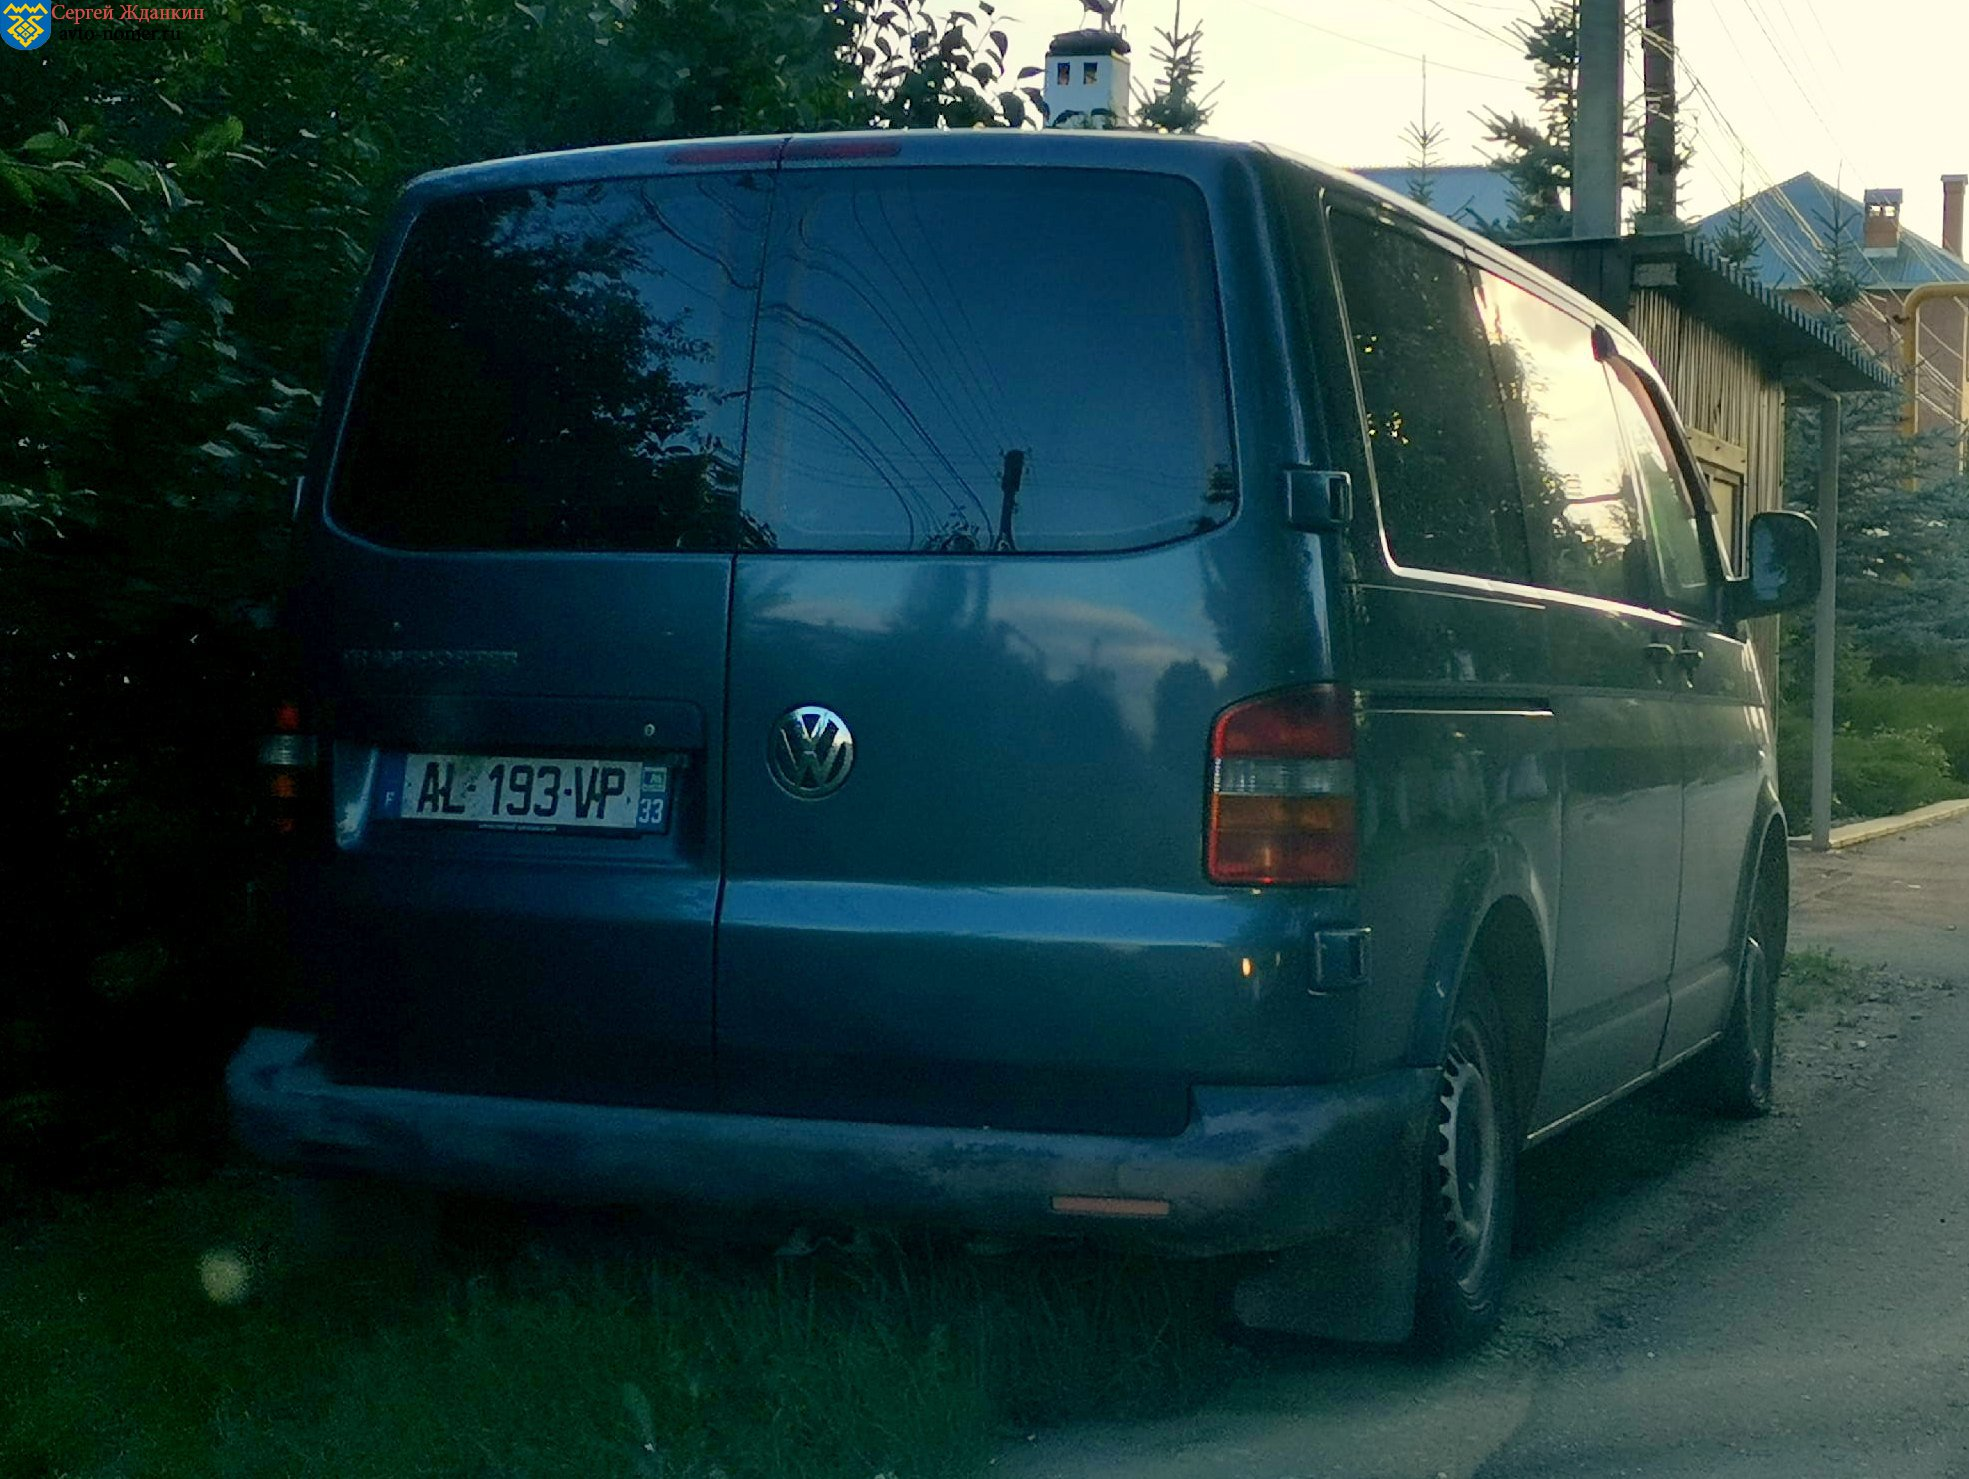licence plate: (369, 741, 676, 844)
